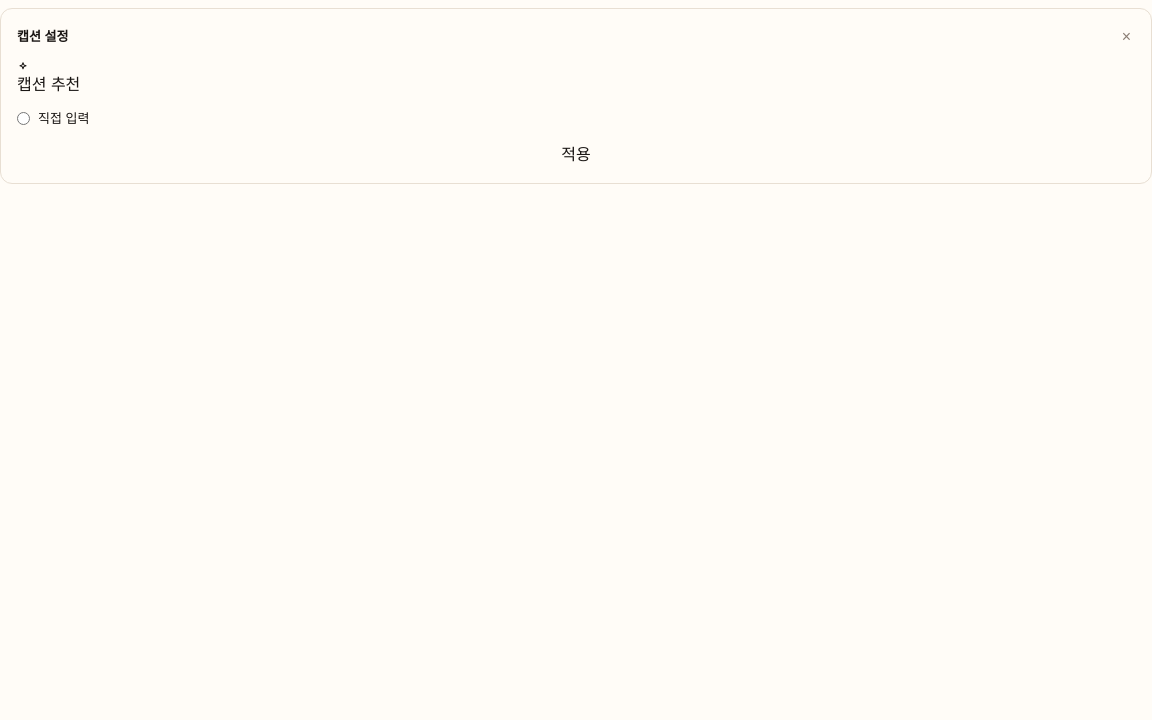
CaptionSelector › source=template → "기본 템플릿" 배지 표시
Click the button "캡션 추천". click: (49, 79)
box: [17,61,80,97]
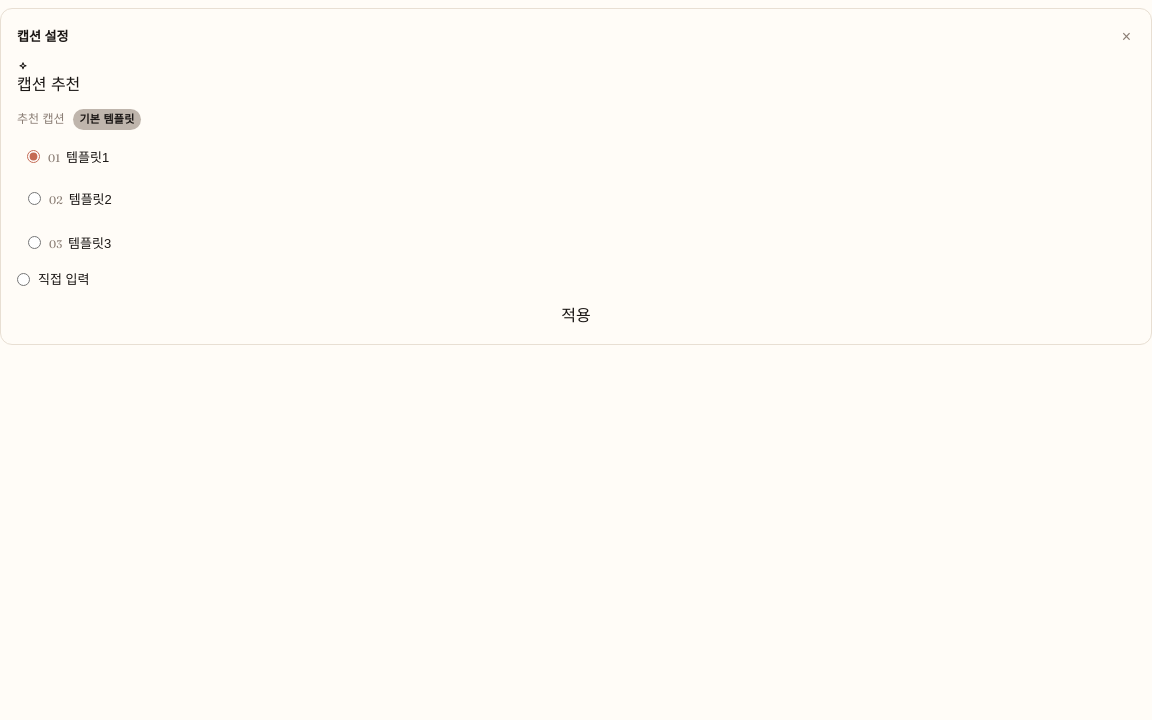
Expected: the text "기본 템플릿" is shown, [72,109,142,130]
